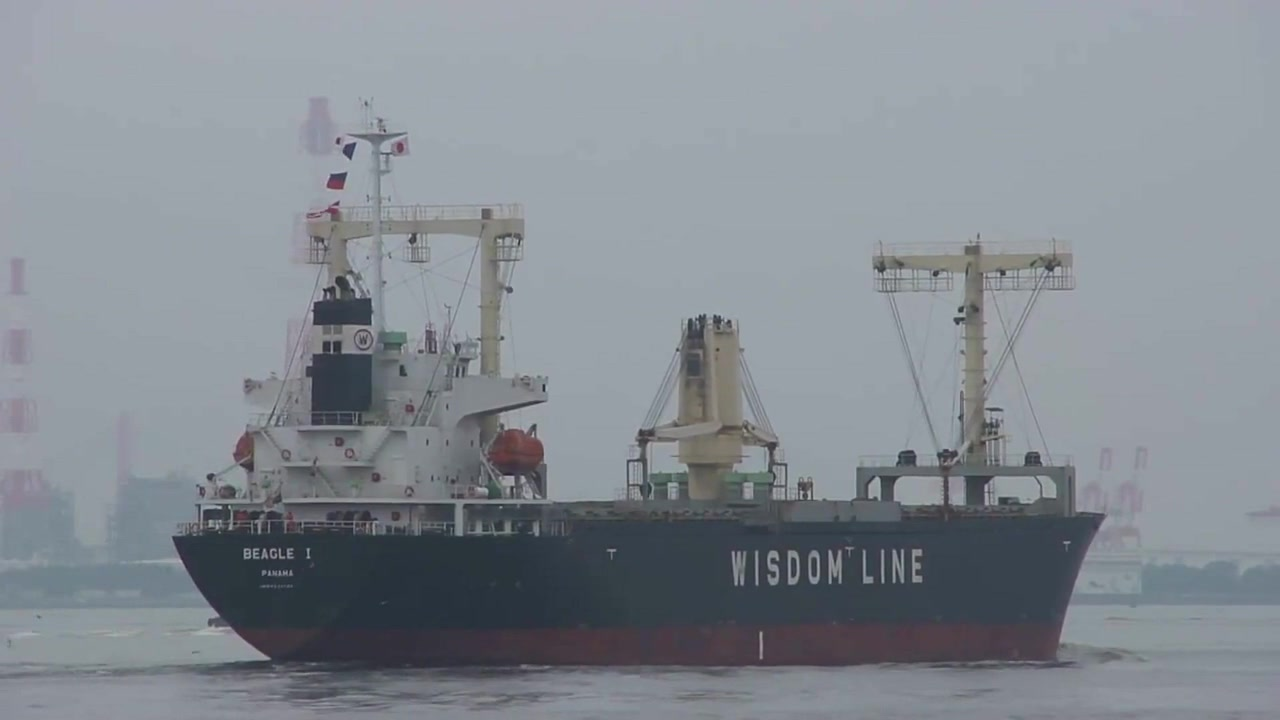boat: (172, 105, 1116, 672)
